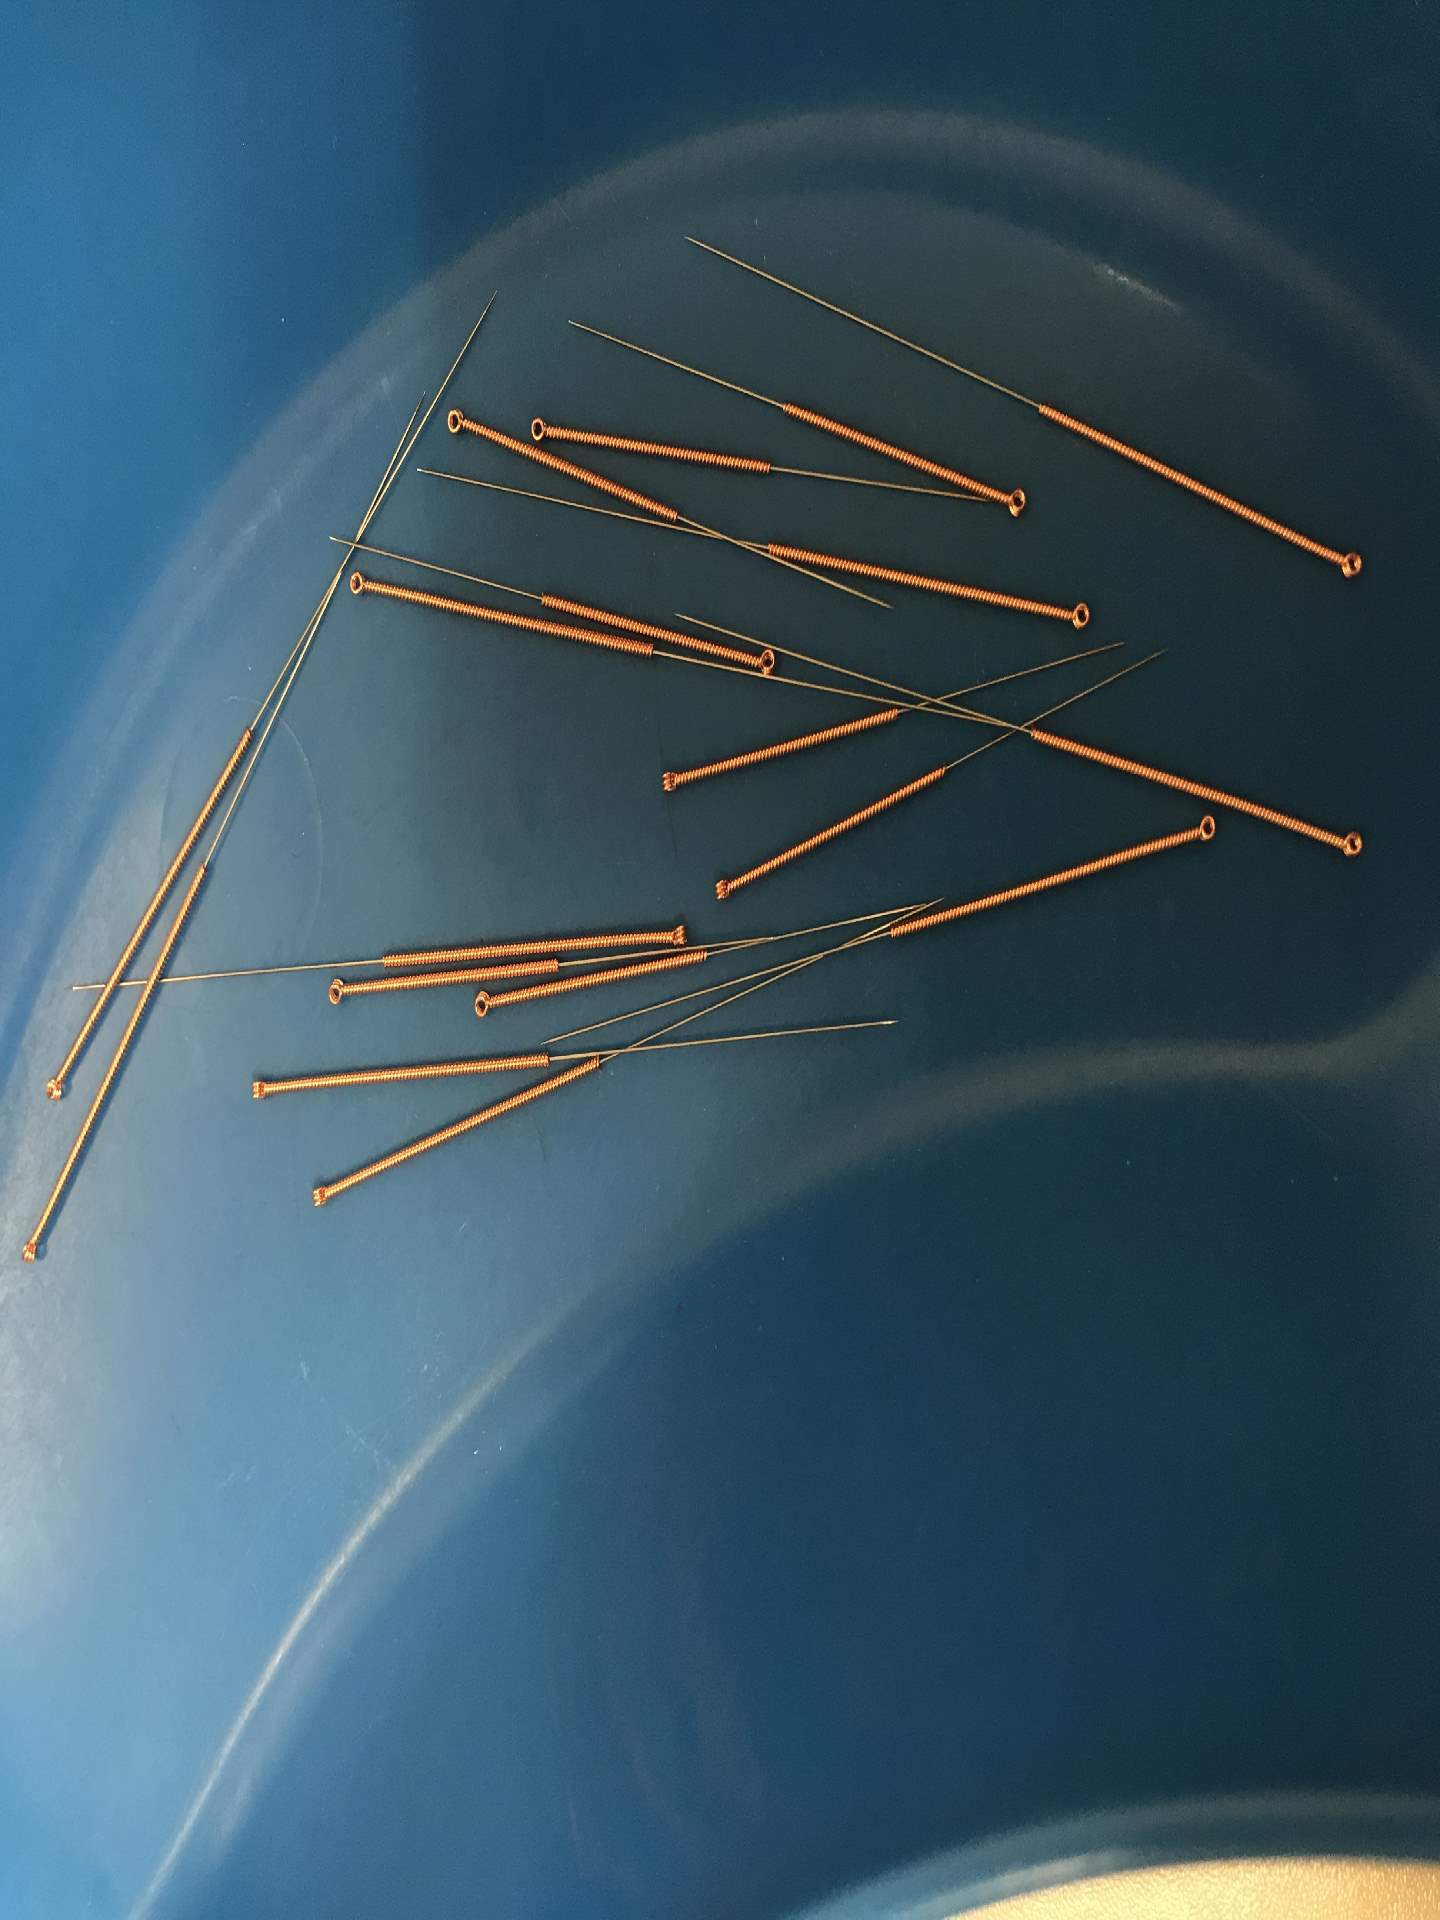needle: (1327, 543, 1367, 590), (992, 478, 1032, 525), (1331, 822, 1370, 869), (1056, 593, 1097, 636), (1186, 807, 1224, 853), (14, 1228, 48, 1274), (650, 760, 688, 803), (303, 1175, 339, 1217), (36, 1063, 70, 1108), (522, 410, 560, 447), (439, 402, 475, 441), (321, 971, 355, 1011), (708, 869, 743, 909), (242, 1070, 275, 1110), (746, 646, 782, 680), (340, 565, 374, 602), (466, 986, 498, 1023), (661, 919, 691, 951)
